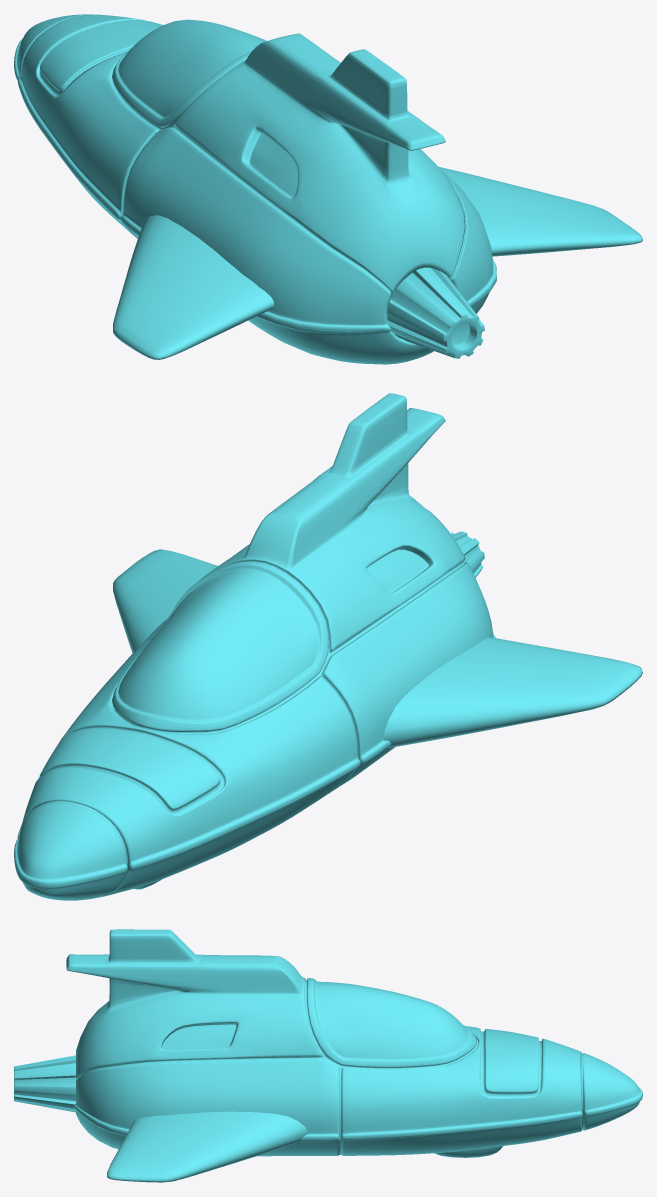
Rendered from SpaceShip_HP01.fbx.
3 renders of one model, top to bottom at view 1: azimuth 30°, elevation 25°; view 2: azimuth 150°, elevation 25°; view 3: azimuth 270°, elevation 25°, orthographic. The views are drawn at different scales.
Visible parts, largest first — view 1: SpaceShip_HP; view 2: SpaceShip_HP; view 3: SpaceShip_HP.
Part boxes in pixels (x1=…): SpaceShip_HP: x1=14, y1=14, x2=642, y2=364; SpaceShip_HP: x1=14, y1=393, x2=642, y2=900; SpaceShip_HP: x1=14, y1=929, x2=642, y2=1182.
Bounding box in the file's own units: 503 × 299 × 757.
